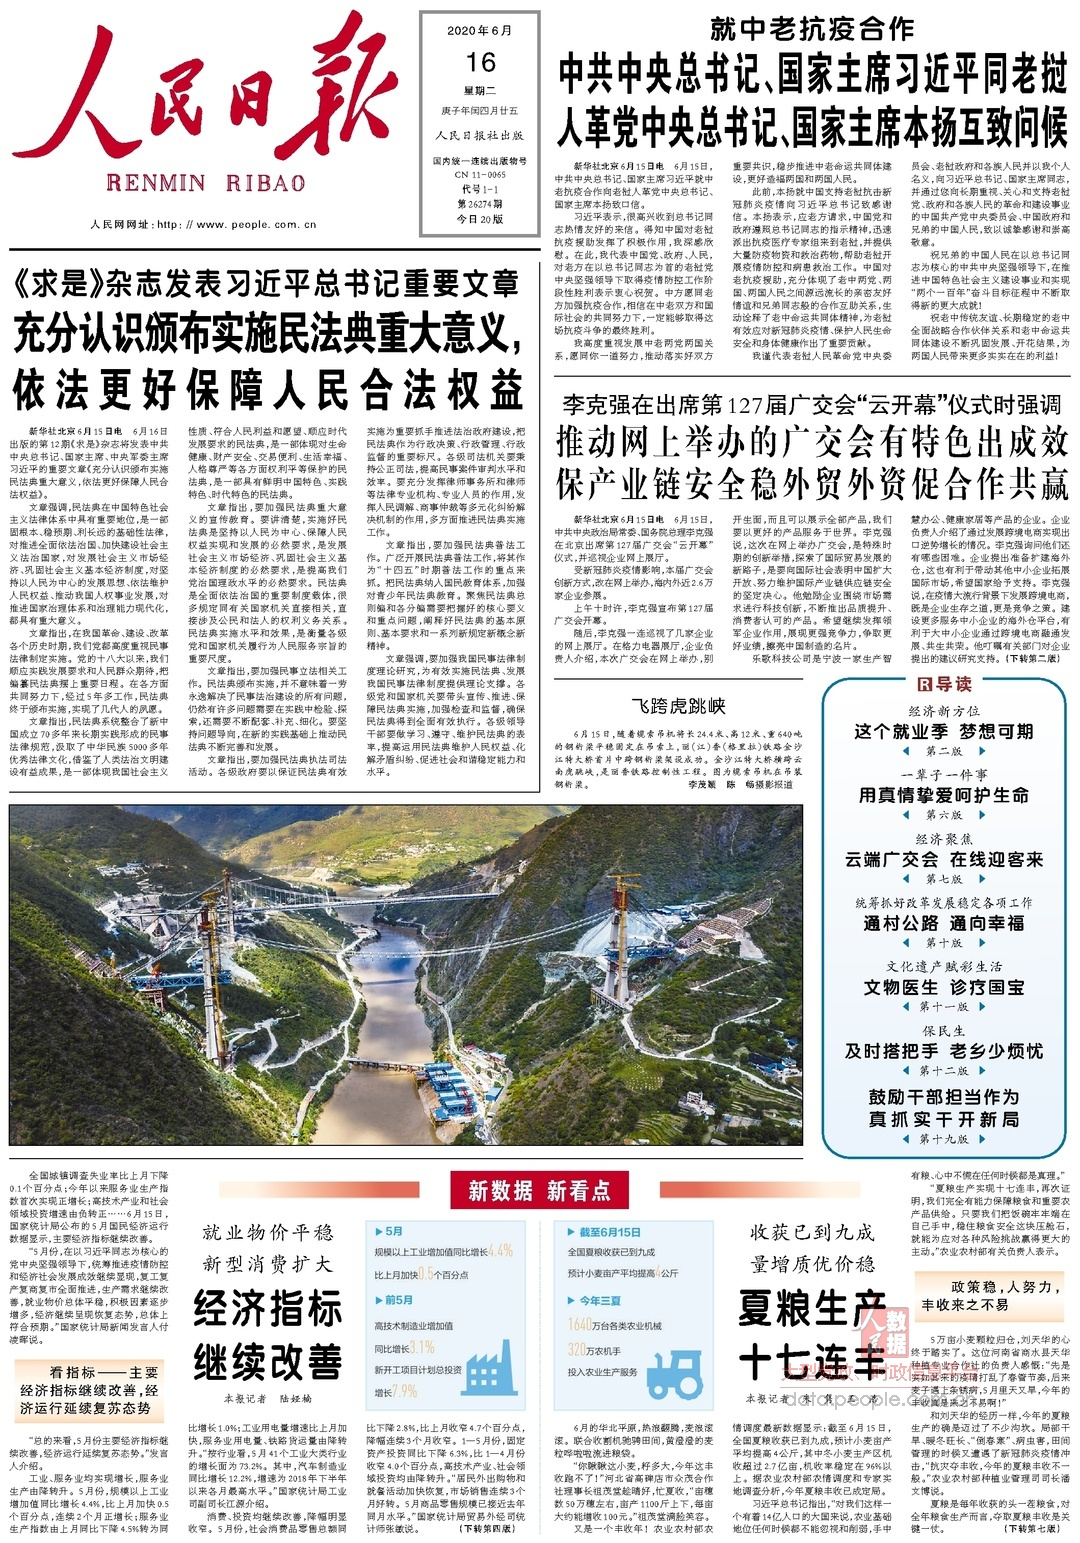pic: (5, 798, 808, 1153)
